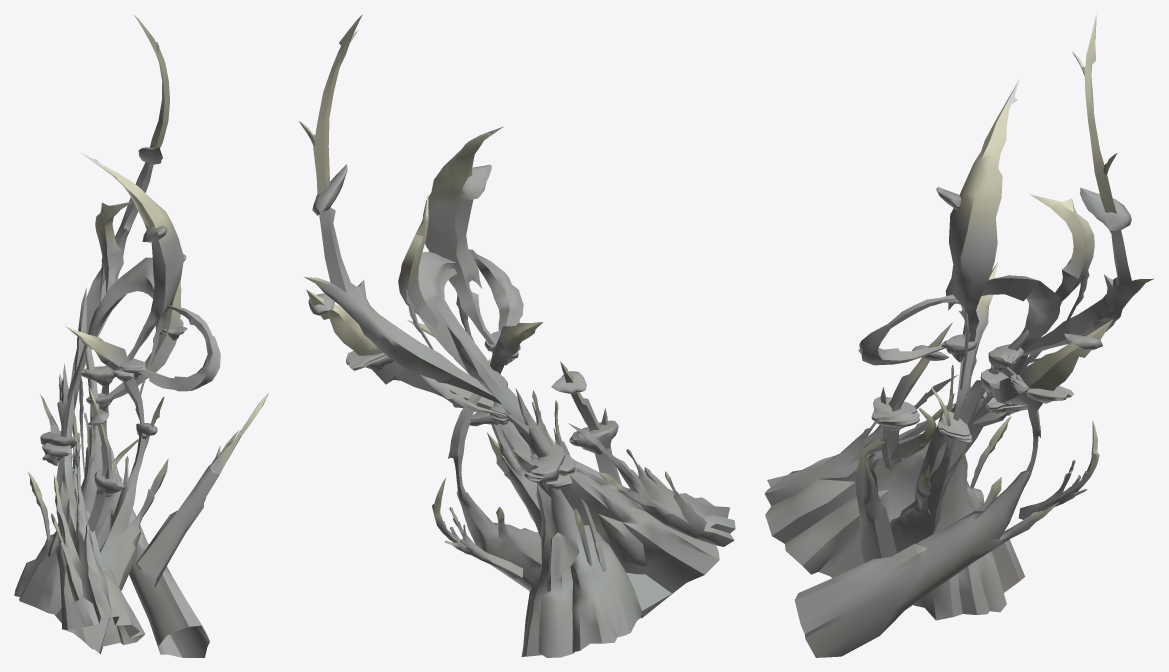
The picture shows the model from 3 angles, left to right: view 1: azimuth 30°, elevation 25°; view 2: azimuth 150°, elevation 25°; view 3: azimuth 270°, elevation 25°; orthographic projection. The views are drawn at different scales.
Visible parts, largest first — view 1: G:\FFXIV-MapTools\exports\w1f3\bg\ffxiv\wil_w1\fld\w1f3\bgpa (×3); view 2: G:\FFXIV-MapTools\exports\w1f3\bg\ffxiv\wil_w1\fld\w1f3\bgpa (×3); view 3: G:\FFXIV-MapTools\exports\w1f3\bg\ffxiv\wil_w1\fld\w1f3\bgpa (×3).
Part boxes in pixels (x1,y1,x2,y2): G:\FFXIV-MapTools\exports\w1f3\bg\ffxiv\wil_w1\fld\w1f3\bgpa (×3): (14, 15, 268, 657); G:\FFXIV-MapTools\exports\w1f3\bg\ffxiv\wil_w1\fld\w1f3\bgpa (×3): (298, 14, 735, 657); G:\FFXIV-MapTools\exports\w1f3\bg\ffxiv\wil_w1\fld\w1f3\bgpa (×3): (764, 14, 1153, 657).
Bounding box in the file's own units: 398 × 916 × 479.
